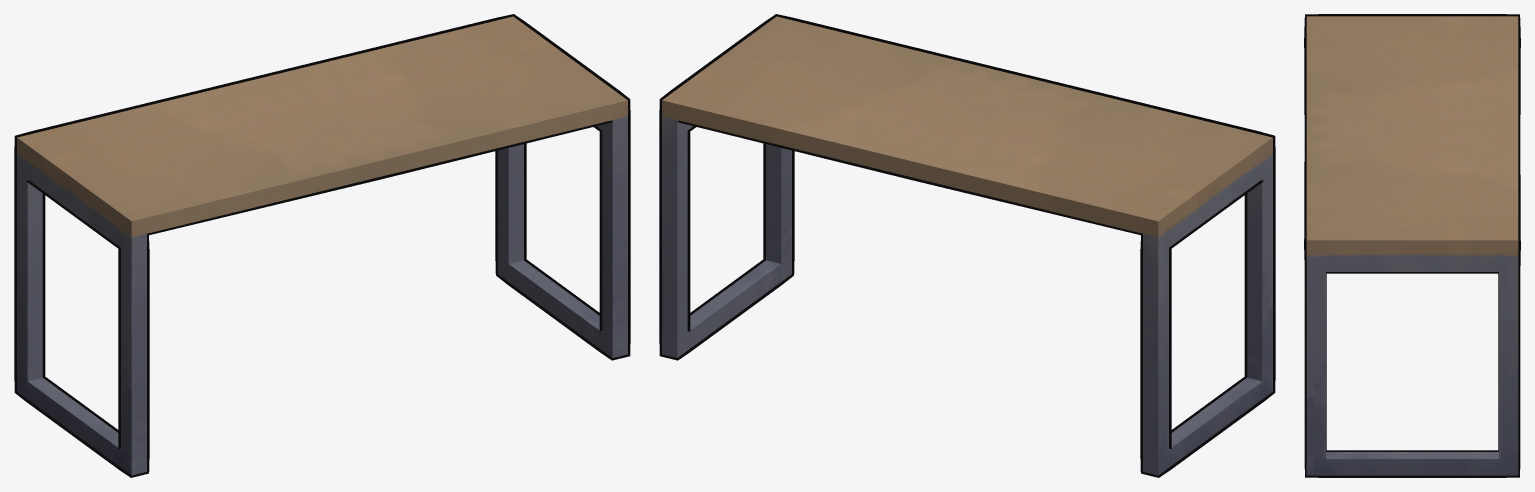
File: Mesa.glb
3 renders of one model, left to right at view 1: azimuth 30°, elevation 25°; view 2: azimuth 150°, elevation 25°; view 3: azimuth 270°, elevation 25°, orthographic. The views are drawn at different scales.
Parts seen in each view (by area): view 1: Mesa_001; view 2: Mesa_001; view 3: Mesa_001.
Part boxes in pixels (left/top/right/bottom): Mesa_001: left=14, top=14, right=630, bottom=477; Mesa_001: left=659, top=14, right=1275, bottom=477; Mesa_001: left=1304, top=14, right=1520, bottom=477.
Size of the model in its own units: 1.52 by 0.7469 by 0.6136.
Materials: 2 (1 with a texture image).
